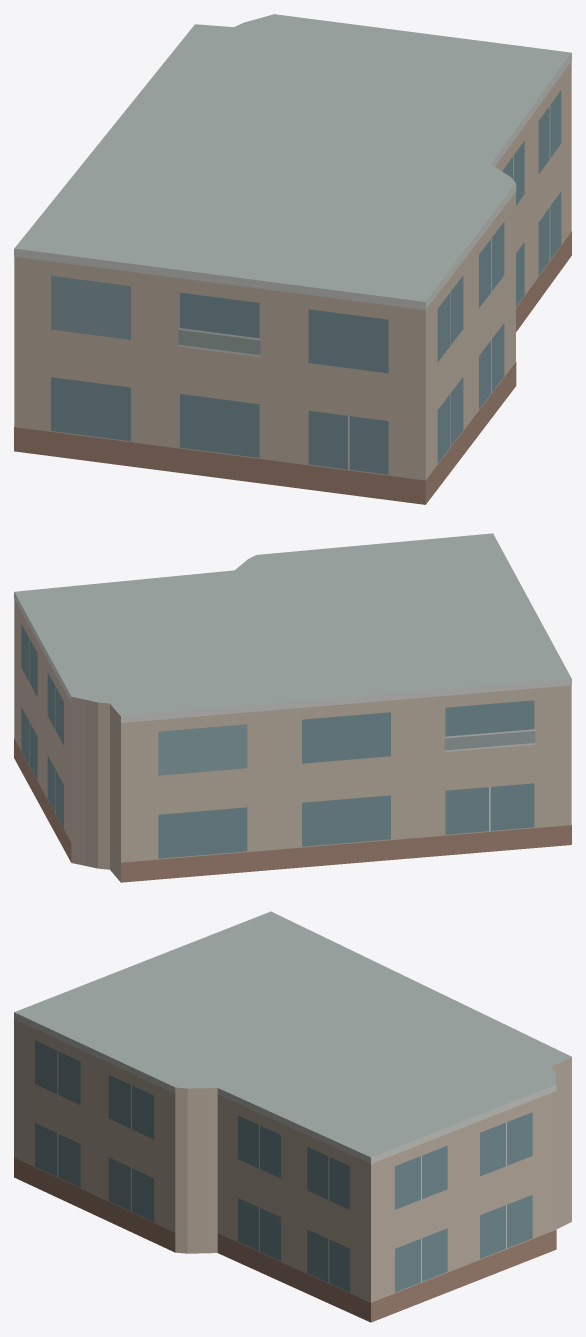
Rendered from survey-upis-32949212.glb.
3 renders of one model, top to bottom at view 1: azimuth 30°, elevation 25°; view 2: azimuth 150°, elevation 25°; view 3: azimuth 270°, elevation 25°, orthographic. The views are drawn at different scales.
Visible parts, largest first — view 1: survey-upis-32949212.tmp; view 2: survey-upis-32949212.tmp; view 3: survey-upis-32949212.tmp.
Boxes of the visible parts, <box> form: survey-upis-32949212.tmp: <box>14,14,571,504</box>; survey-upis-32949212.tmp: <box>14,533,571,882</box>; survey-upis-32949212.tmp: <box>14,911,571,1322</box>.
Size of the model in its own units: 19.5 by 6.1 by 18.68.
